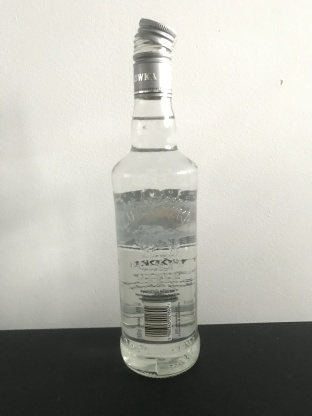nakretka: (131, 15, 178, 99)
